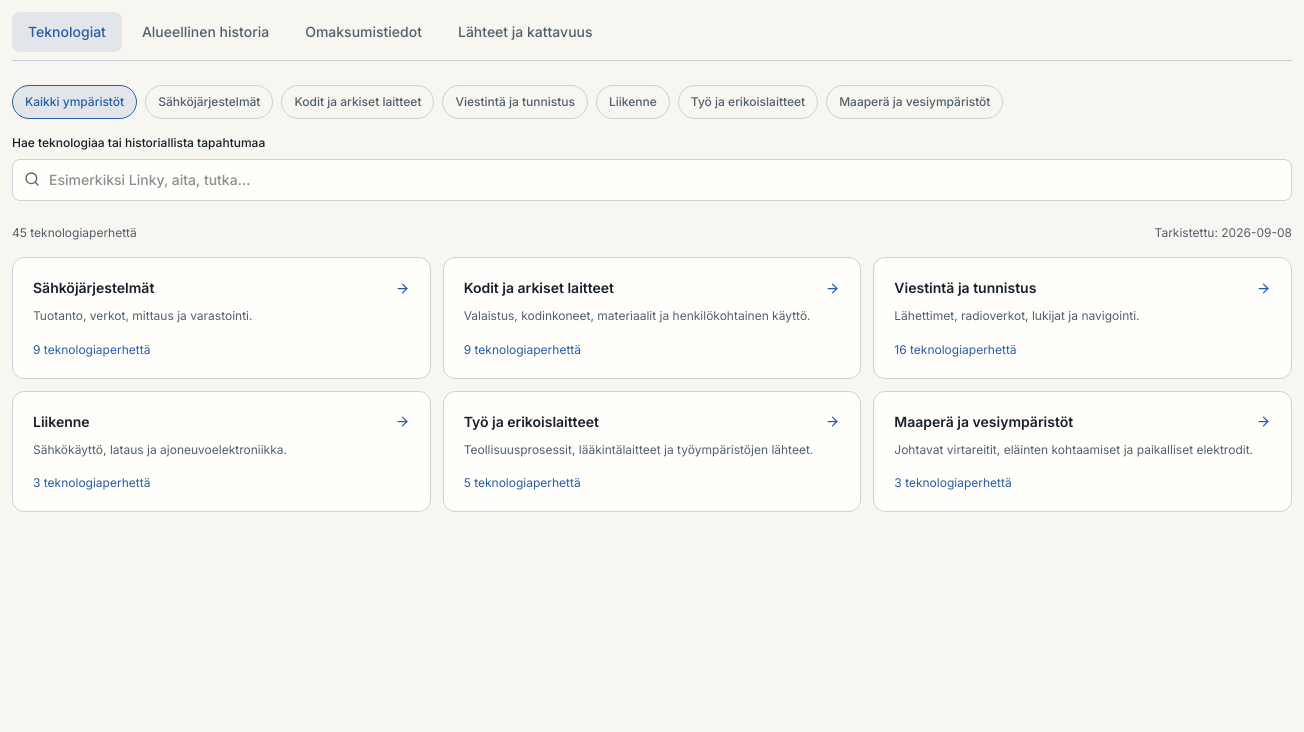
Test: technology history reading path › starts with six environments and finds regional terms across technology events
expect the number of buttons named "Tutki ympäristöä:" is 6: met, box [12,257,431,378]; [443,257,861,378]; [873,257,1292,378]; [12,390,431,512]; [443,390,861,512]; [873,390,1292,512]
Click the button "Maaperä ja vesiympäristöt" at (915, 102), box [826,85,1003,119]
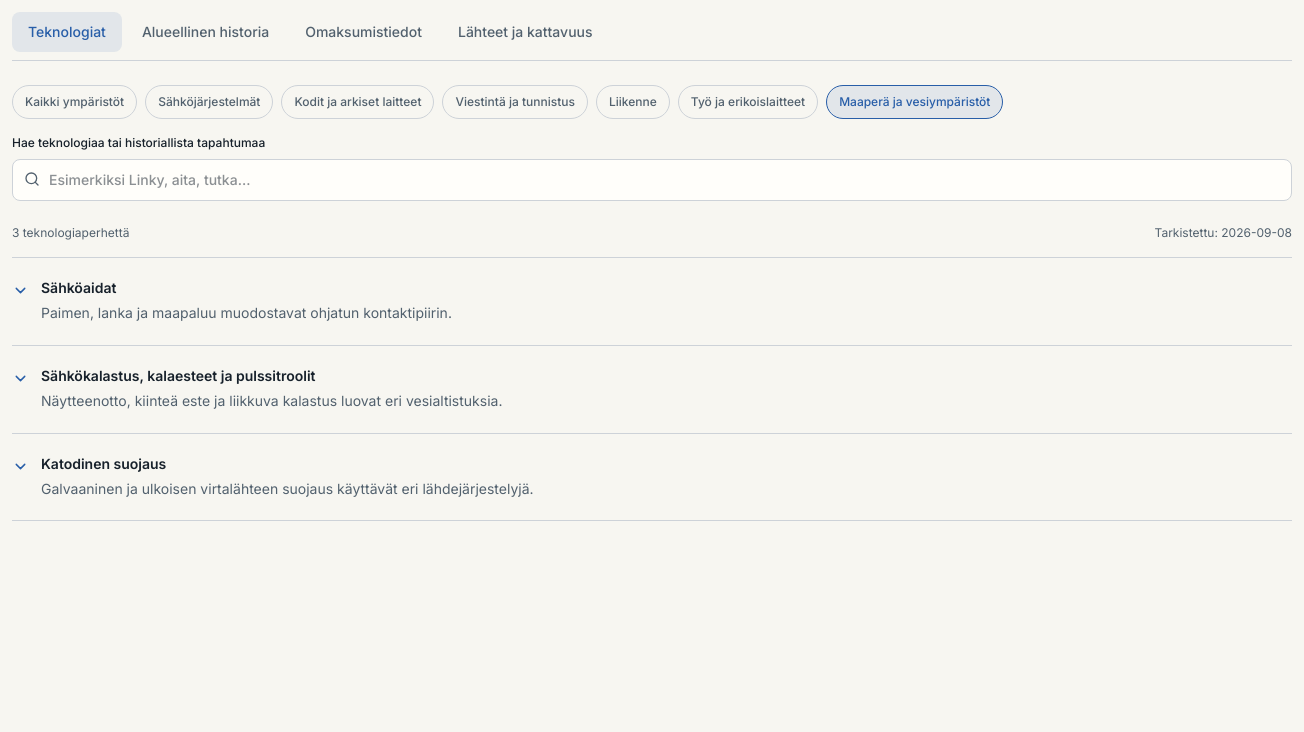
expect the text "Älymittarit: AMR ja AMI" is not shown: met
expect the text "Sähköaidat" is shown: met, box [41,279,116,296]
Click the button "Kaikki ympäristöt" at (75, 102), box [12,85,137,119]
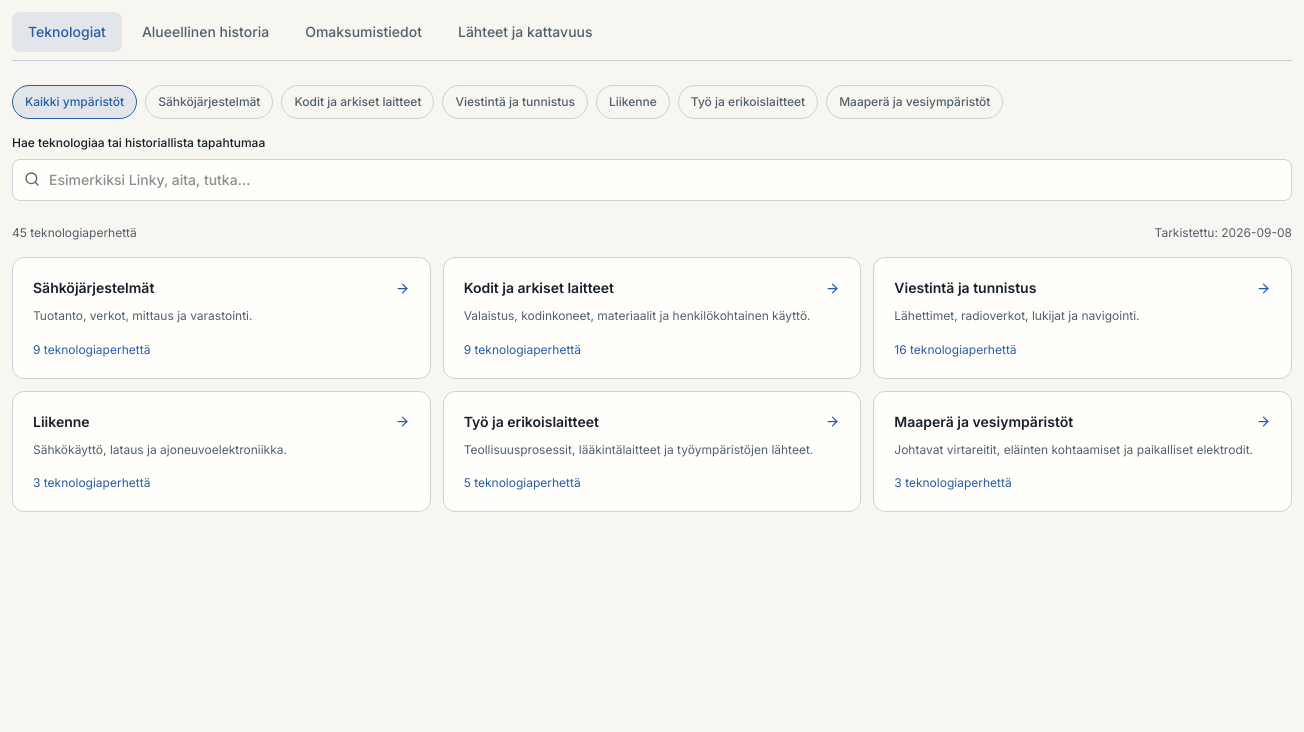
Type "Linky" into the search field at (652, 180), box [12,159,1292,201]
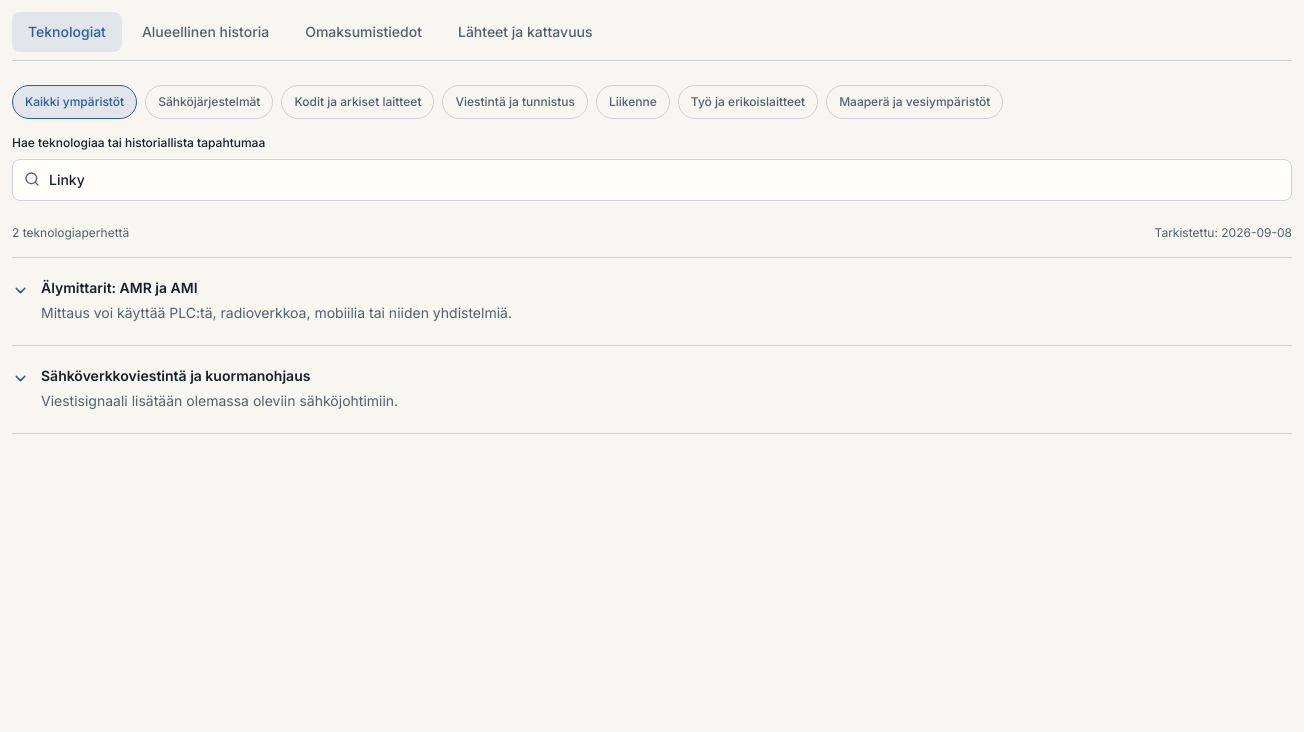
expect the heading "Sähköaidat" is not shown: met
expect the text "Älymittarit: AMR ja AMI" is shown: met, box [41,279,198,296]
